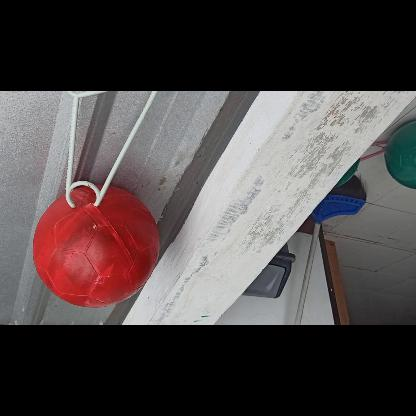red_ball: (31, 184, 158, 310)
